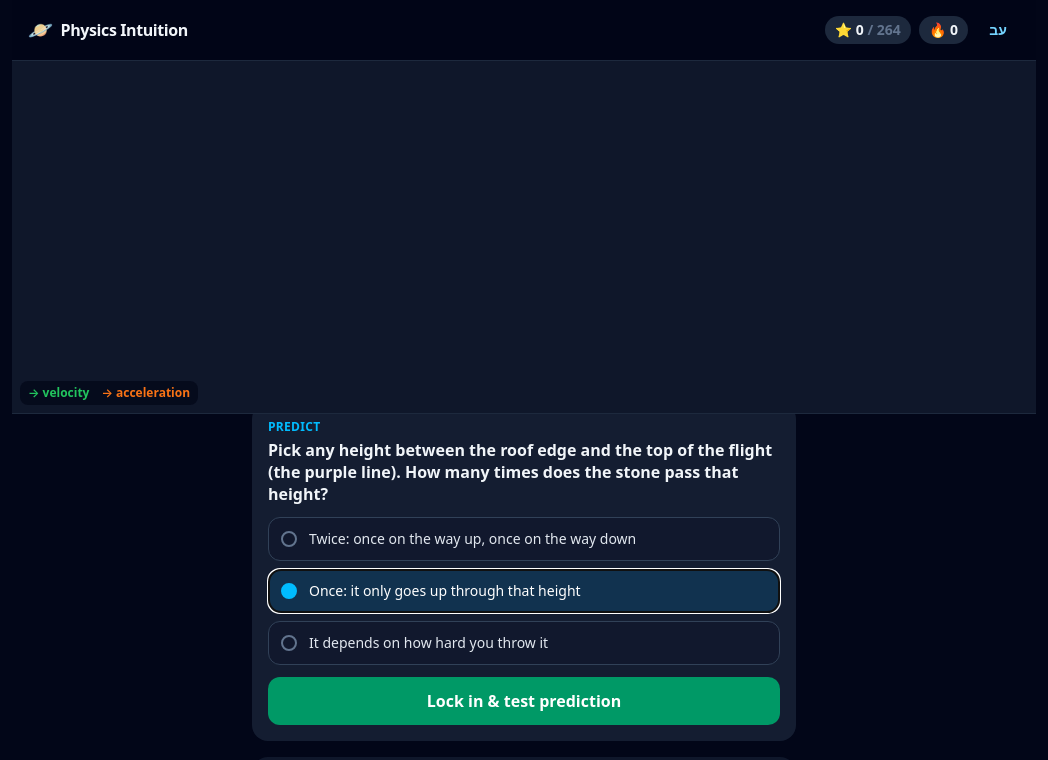
Test: QuestionScreen prediction loop › wrong prediction → hint → retry earns retry points
Earlier steps of the test are not shown.
(page scrolled)
Click the button "Lock in & test prediction" at [524, 701], box top-left (268, 677), bottom-right (780, 725)
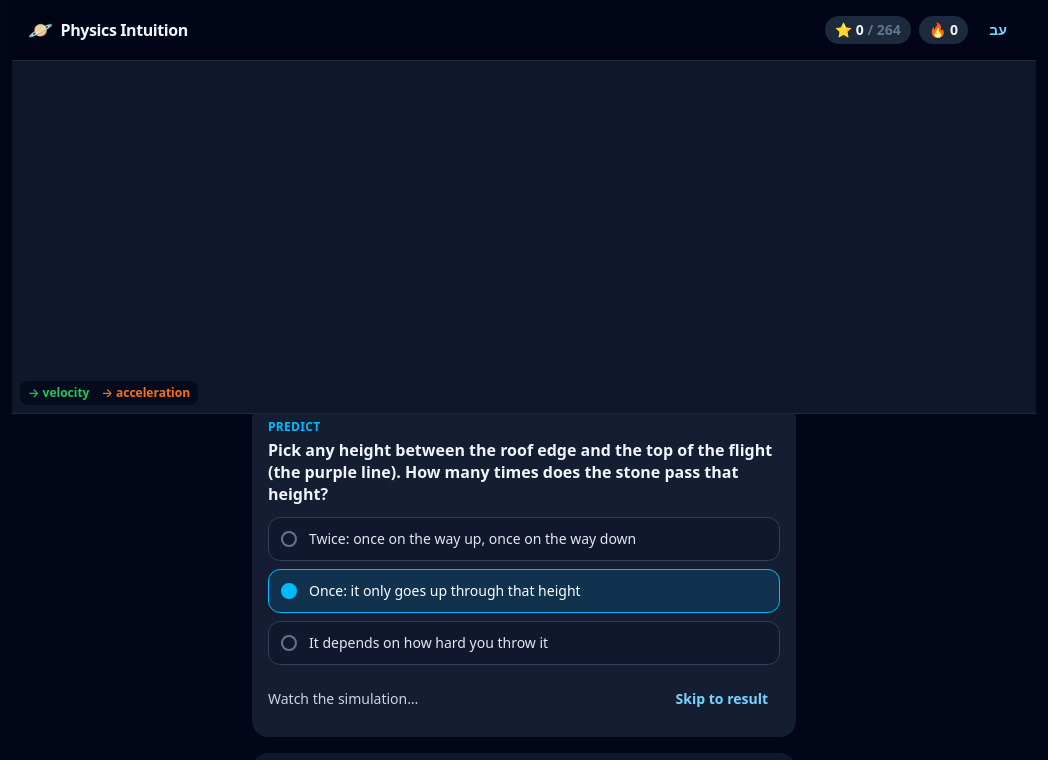
Click the button "Skip to result" at [722, 699], box top-left (664, 677), bottom-right (780, 721)
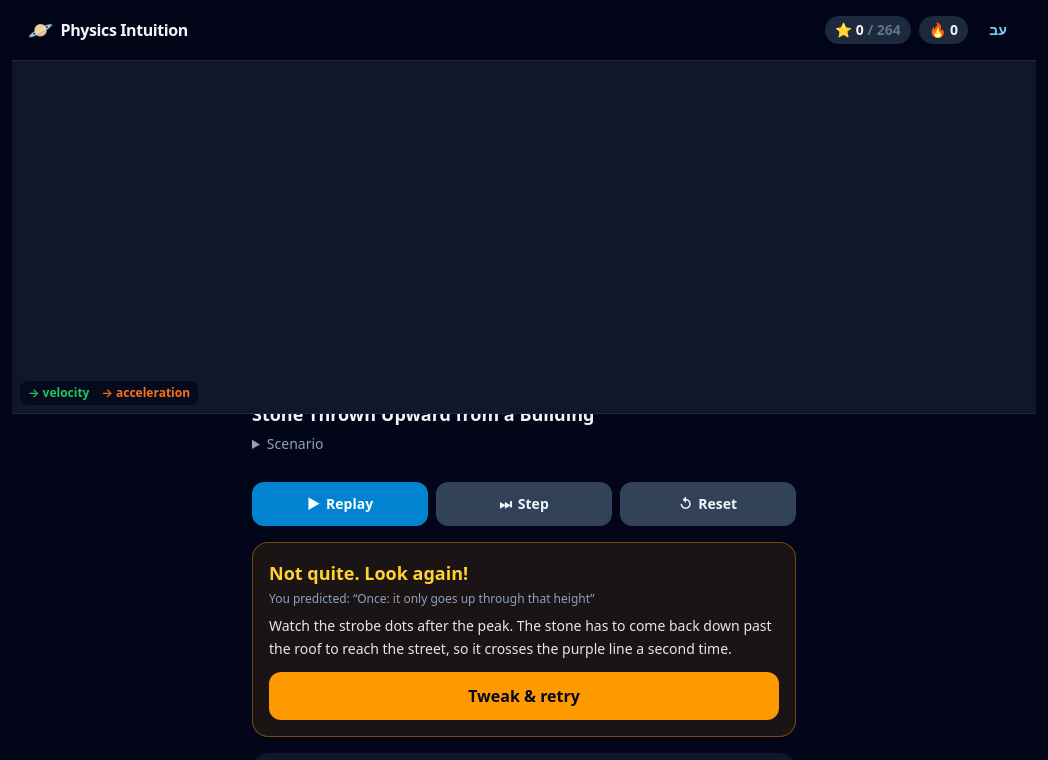
Expected: the text with test id "total-score" reads "0", top-left (856, 20), bottom-right (864, 39)
Now the heading "Not quite. Look again!" is shown, box top-left (269, 561), bottom-right (468, 585)
Click the button "Tweak & retry" at [524, 696], box top-left (269, 672), bottom-right (779, 720)
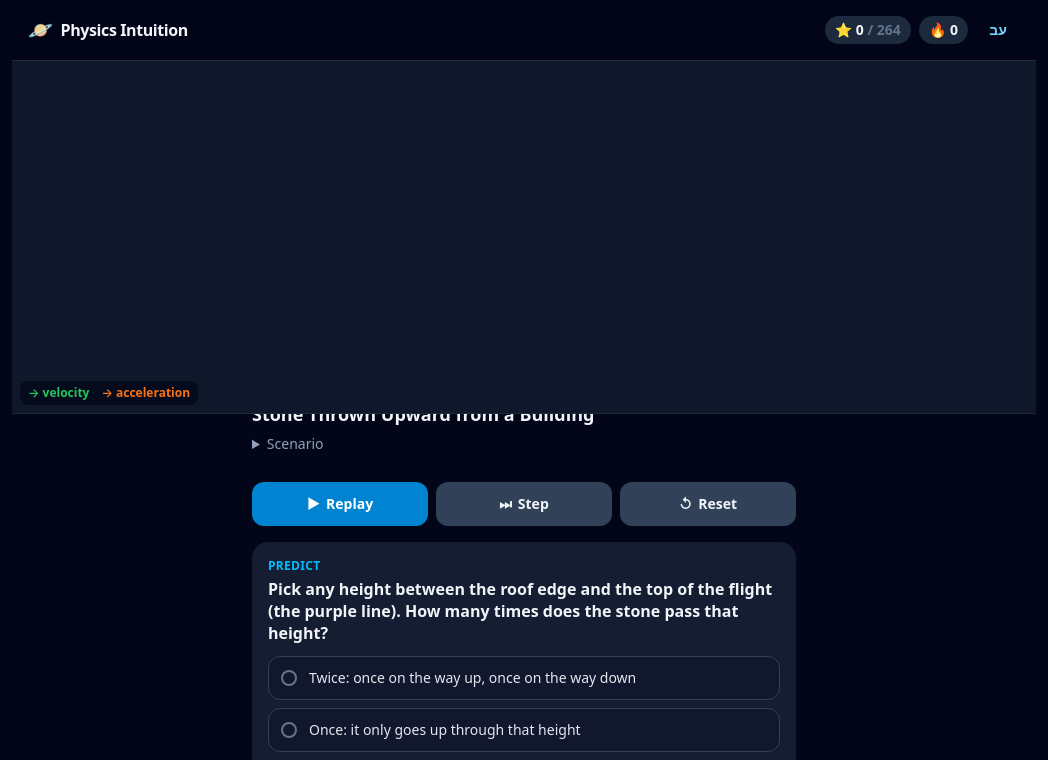
Now the button "▶ Replay" is enabled, box top-left (252, 482), bottom-right (428, 526)
Click the radio button labelled "Twice: once on the way up, once on the way down" at [524, 678], box top-left (268, 656), bottom-right (780, 700)
(page scrolled)
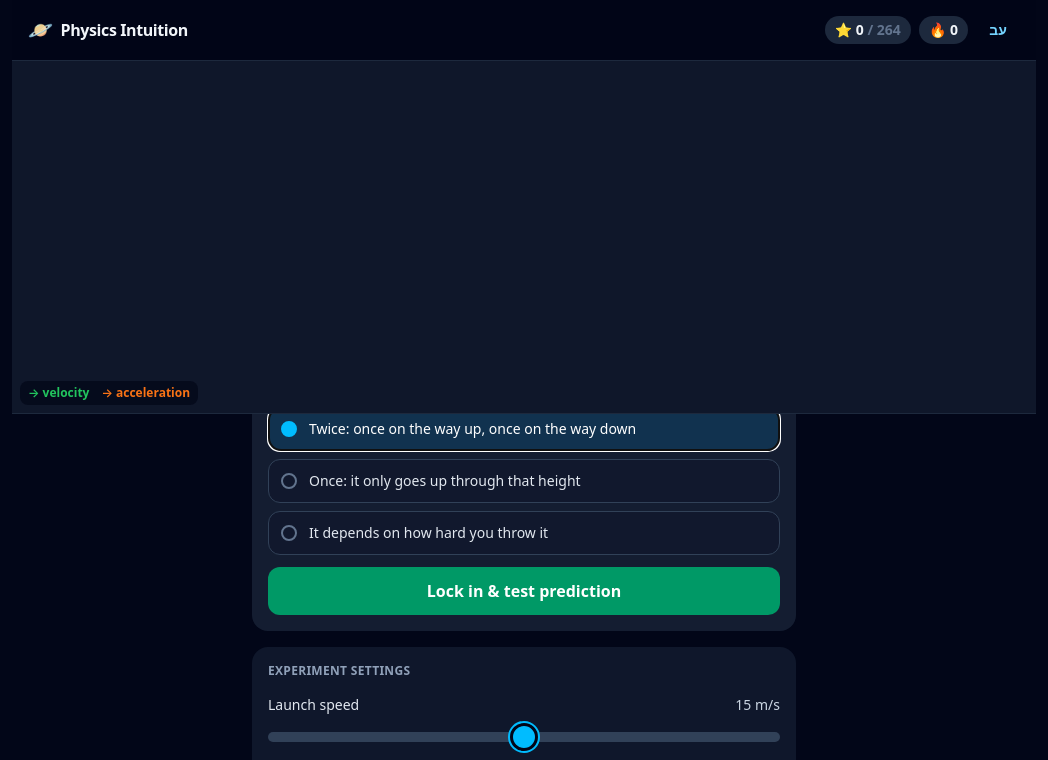
Click the button "Lock in & test prediction" at [524, 591], box top-left (268, 567), bottom-right (780, 615)
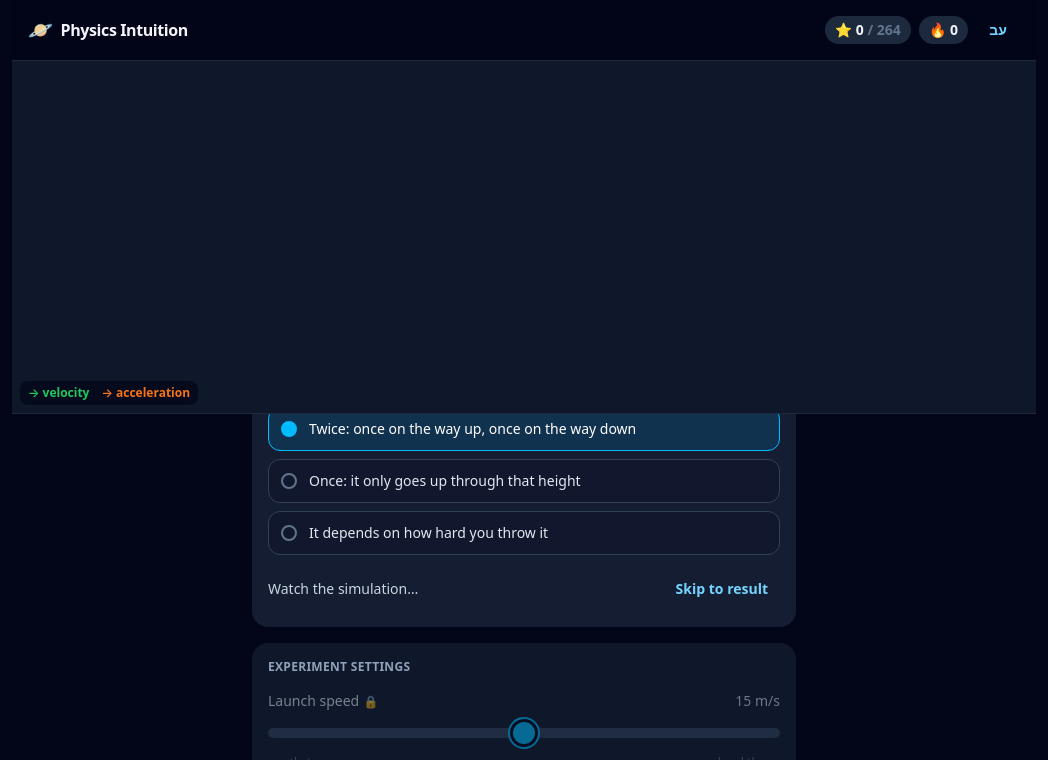
Click the button "Skip to result" at [722, 589], box top-left (664, 567), bottom-right (780, 611)
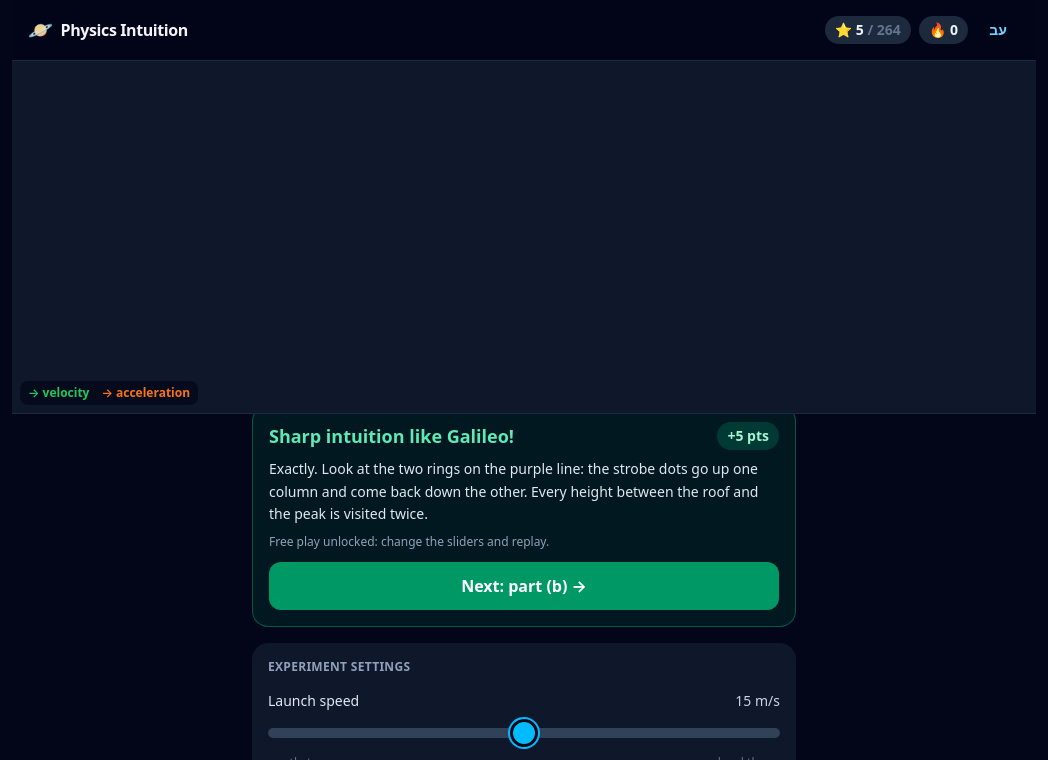
Now the text "+5 pts" is shown, box top-left (717, 422), bottom-right (779, 450)
